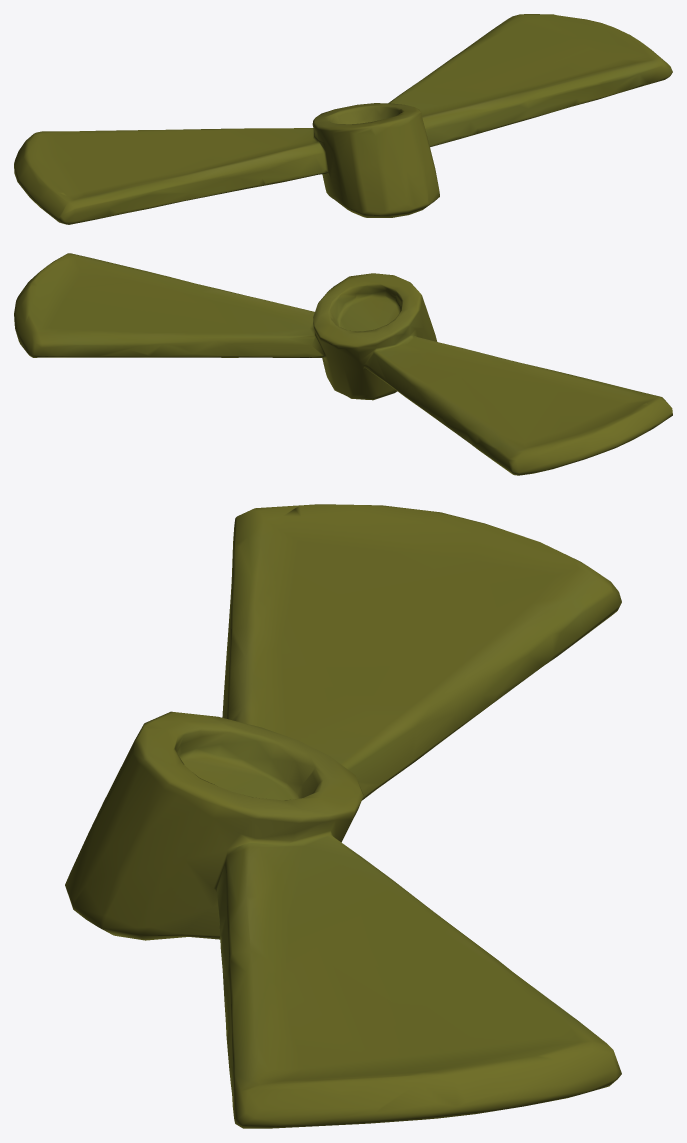
File: gen3d-sunken-propeller-lod0.glb
3 renders of one model, top to bottom at view 1: azimuth 30°, elevation 25°; view 2: azimuth 150°, elevation 25°; view 3: azimuth 270°, elevation 25°, orthographic. The views are drawn at different scales.
Visible parts, largest first — view 1: part_0; view 2: part_0; view 3: part_0.
Boxes of the visible parts, x1,y1,x2,y2 form: part_0: (14, 14, 672, 224); part_0: (14, 253, 672, 475); part_0: (65, 504, 621, 1128).
Size of the model in its own units: 6.85 by 0.9995 by 2.69.
